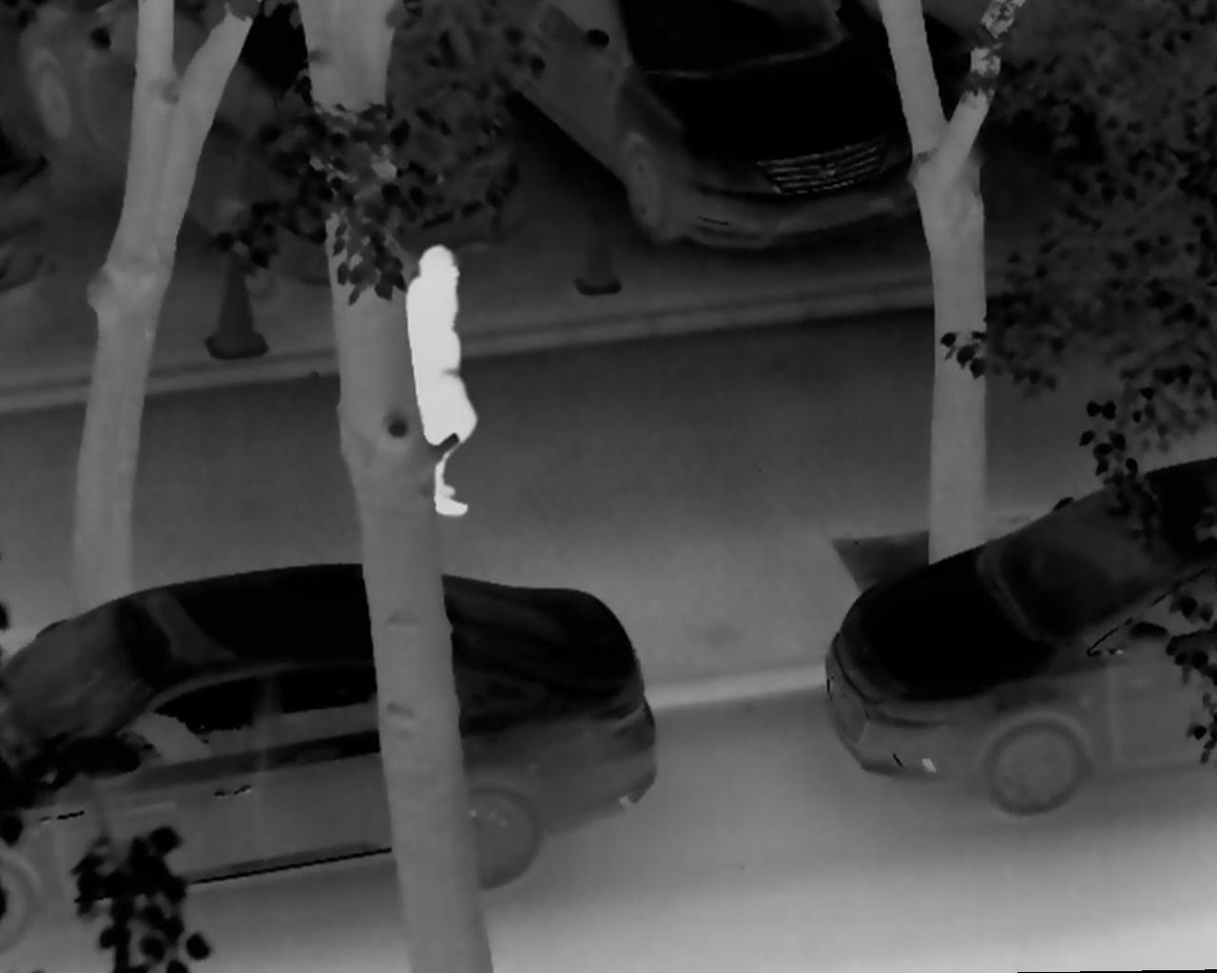person: (390, 238, 475, 524)
